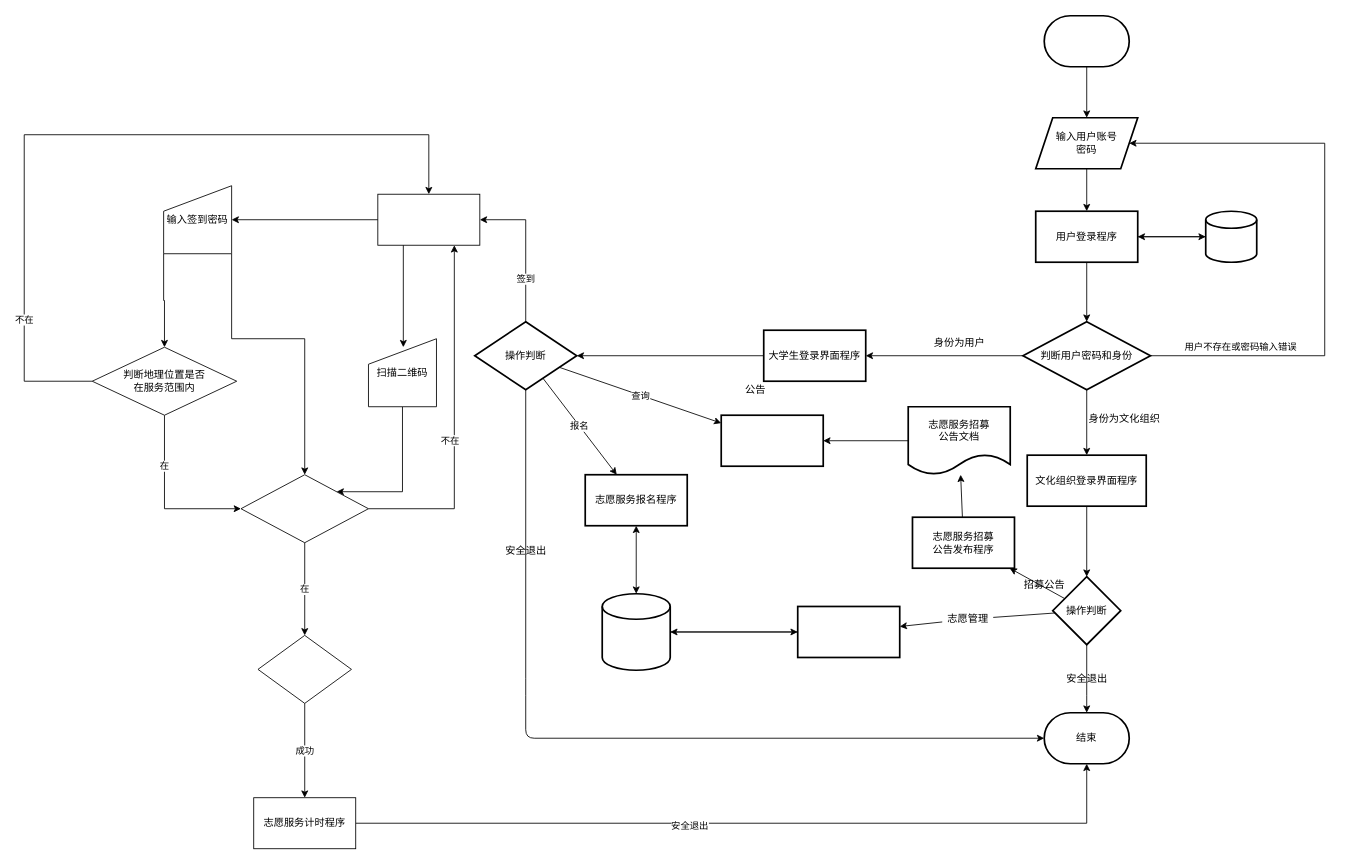
Some shapes in this 1346 by 864 pixel diagram are drawn without their labels. The shapes that lost their labels are listed below. From the top down, each one's box as (x1, y1, x2, y2) in pixels, then its label:
(1043, 14, 1130, 67): 开始
(377, 193, 480, 245): 志愿签到界面程序
(1204, 210, 1257, 263): 用户清单主文件
(720, 414, 824, 467): 志愿服务查询程序
(240, 474, 368, 543): 判断时间是否 在志愿时间范围内
(601, 592, 671, 671): 志愿者清单
(796, 605, 900, 658): 志愿管理程序
(257, 635, 351, 703): 判断是否成功
